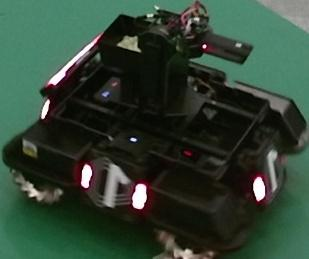armor_1: (82, 164, 147, 210)
front_1: (260, 144, 283, 204)
light: (48, 34, 102, 85)
right_1: (89, 157, 133, 207)
